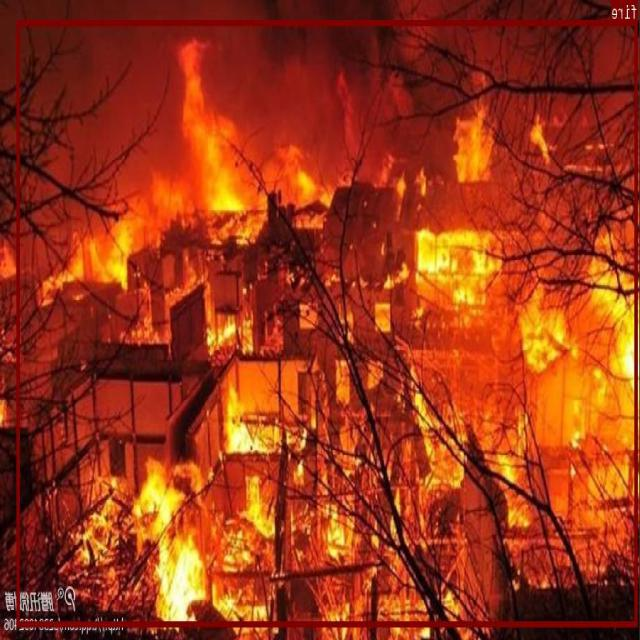fire: (18, 20, 638, 626)
